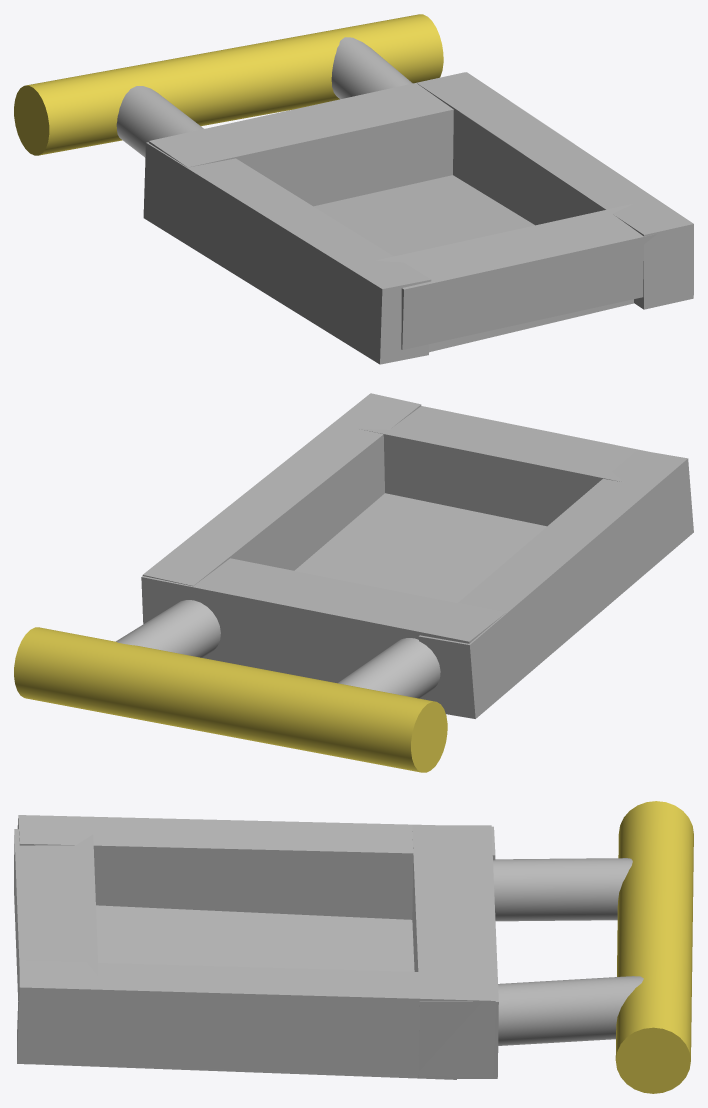
File: plasma ball hologram puzzle lock drawer when puzzle is solved.fbx
3 views of the same model, one above another, from view 1: azimuth 30°, elevation 25°; view 2: azimuth 150°, elevation 25°; view 3: azimuth 270°, elevation 25° (orthographic). The views are drawn at different scales.
Parts seen in each view (by area): view 1: 5321b4ba-0a51-441d-bdb0-43a166597a96; view 2: 5321b4ba-0a51-441d-bdb0-43a166597a96; view 3: 5321b4ba-0a51-441d-bdb0-43a166597a96.
Part boxes in pixels (x1,y1,x2,y2): 5321b4ba-0a51-441d-bdb0-43a166597a96: [14, 14, 693, 364]; 5321b4ba-0a51-441d-bdb0-43a166597a96: [14, 393, 693, 772]; 5321b4ba-0a51-441d-bdb0-43a166597a96: [14, 801, 693, 1093].
Size of the model in its own units: 18463 by 4842 by 26050.
